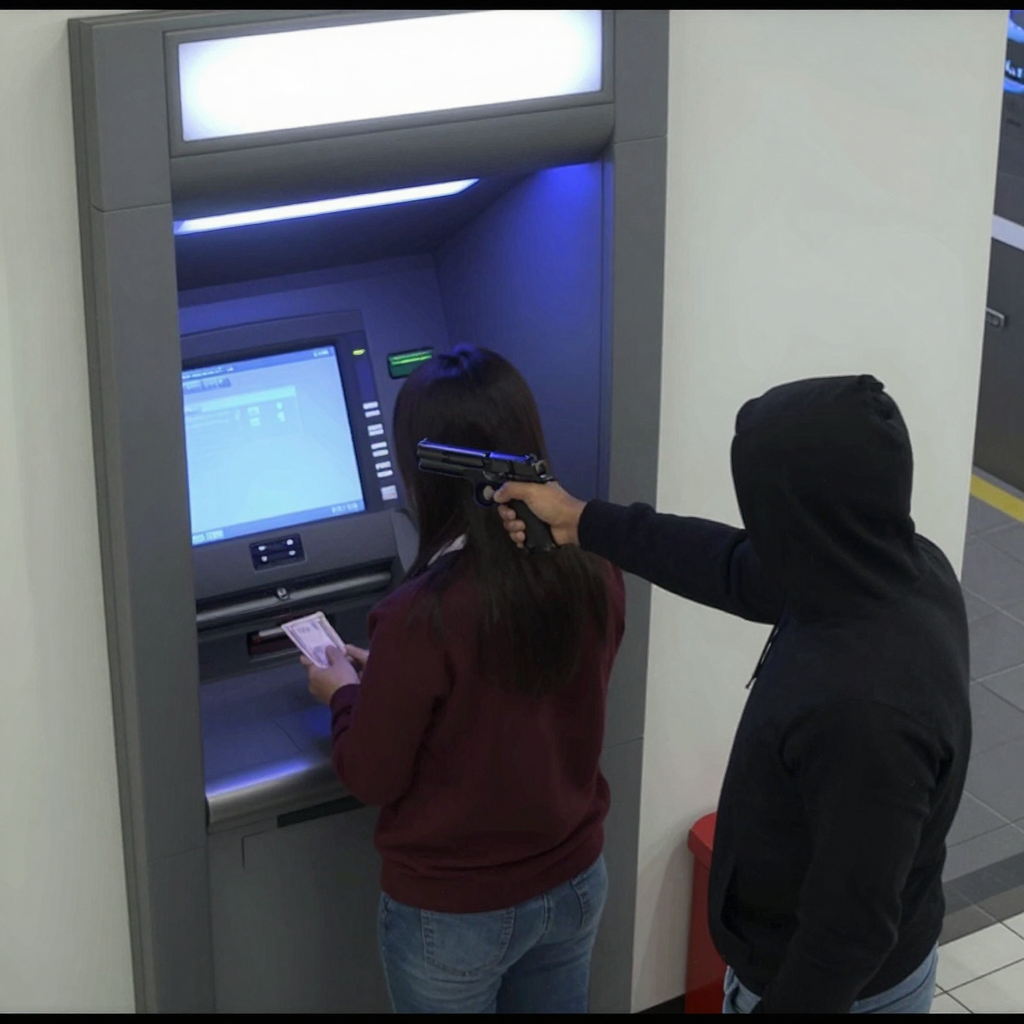Robbery: (493, 372, 973, 1014), (298, 342, 626, 1014)
Shooting: (414, 438, 564, 546)
